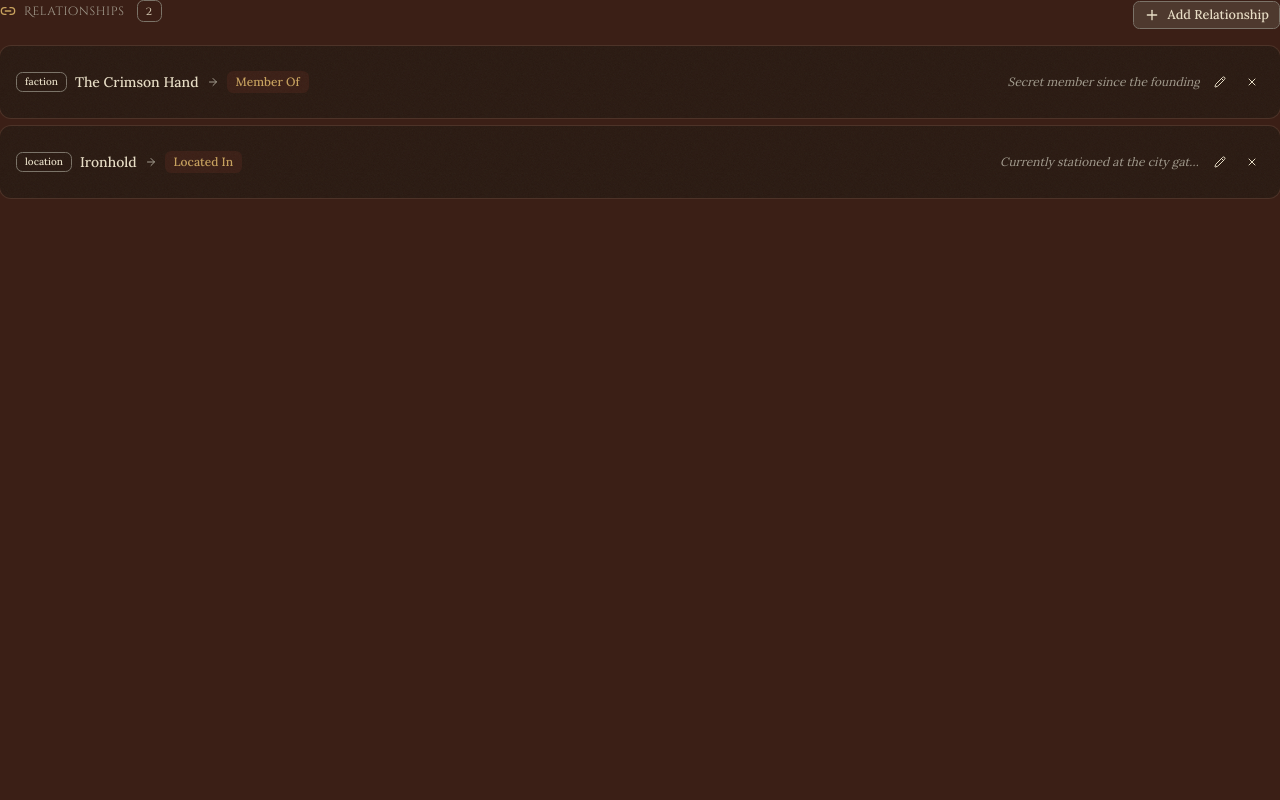
Test: RelationsPanel › opens add relation dialog when button is clicked
Click the button "Add Relationship": (1206, 15) [1132,1,1279,29]
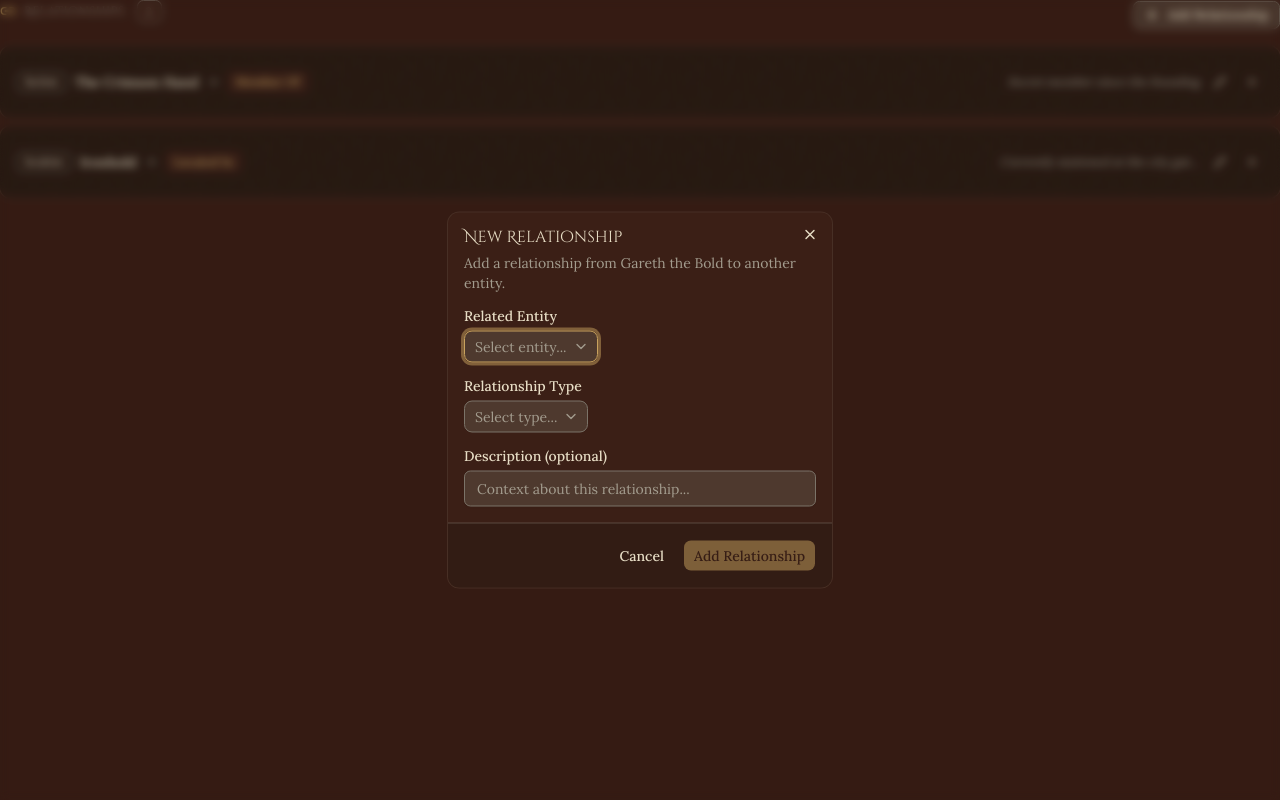
Result: the heading "New Relationship" is shown at [464,226,622,248]
